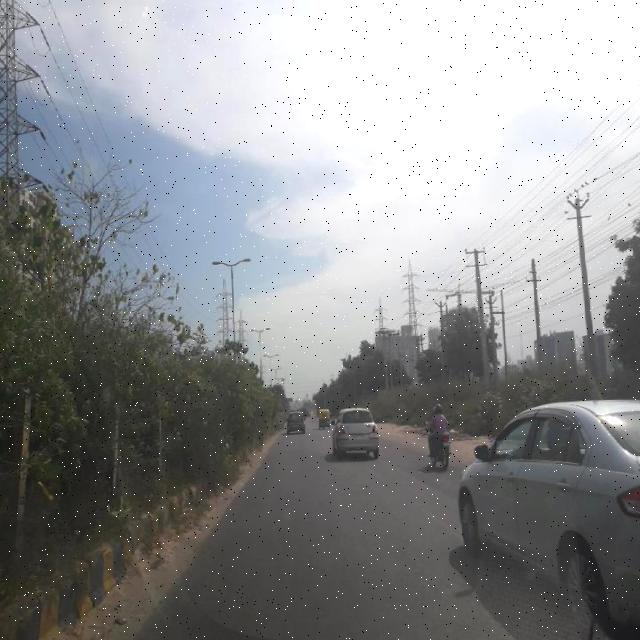D20: (177, 484, 472, 620)
